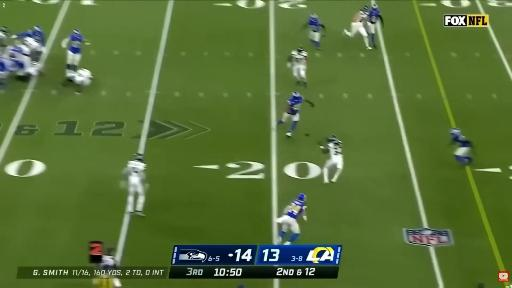Helmet: (448, 128, 461, 137), (134, 152, 144, 162), (326, 135, 336, 144), (298, 194, 307, 203), (70, 26, 78, 36), (292, 92, 300, 100), (0, 26, 8, 34), (296, 46, 303, 52), (372, 4, 379, 10), (310, 14, 316, 20), (362, 6, 368, 11), (34, 26, 40, 31)
Jersey: (124, 161, 146, 184), (18, 30, 45, 45), (286, 200, 306, 219), (287, 94, 303, 115), (74, 68, 91, 84), (327, 141, 342, 159), (69, 34, 83, 53), (291, 50, 307, 66), (452, 135, 472, 147), (308, 17, 321, 32), (368, 9, 380, 24), (0, 56, 8, 77), (353, 10, 367, 22), (0, 31, 8, 47)
Player: (278, 92, 314, 137), (277, 194, 306, 245), (124, 154, 146, 215), (11, 26, 45, 61), (344, 6, 371, 49), (320, 135, 343, 183), (8, 41, 31, 81), (62, 30, 83, 72), (287, 46, 307, 87), (450, 128, 472, 165), (62, 69, 93, 94), (304, 14, 325, 50), (368, 4, 383, 48), (23, 38, 41, 61), (0, 56, 9, 90), (0, 26, 9, 54)
